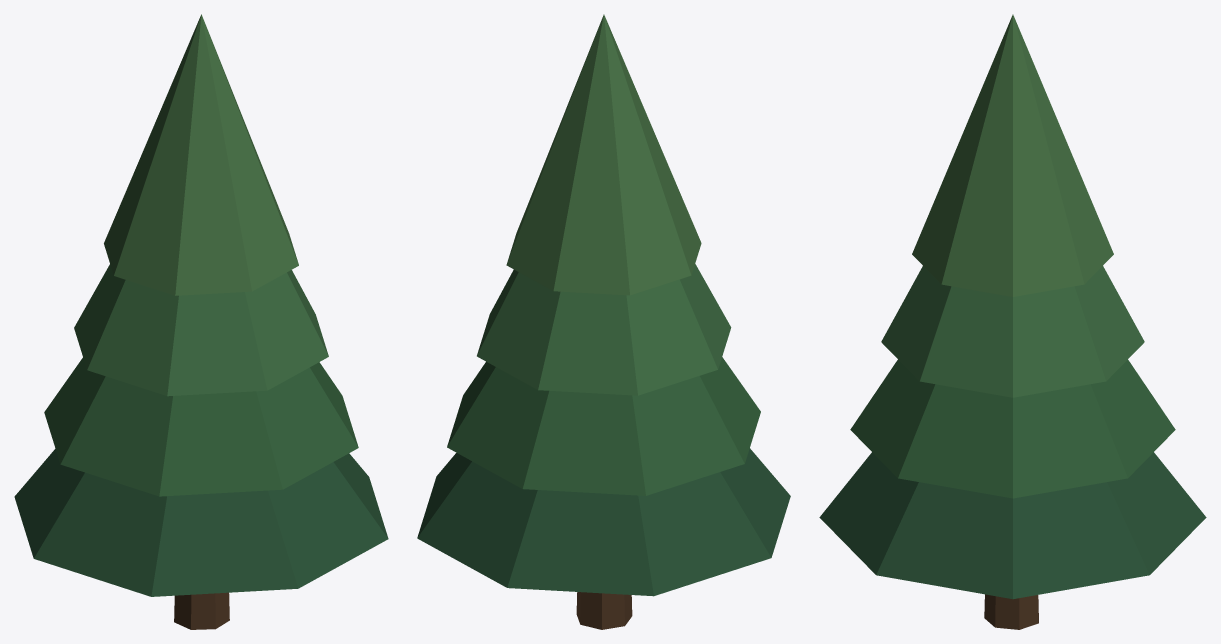
Rendered from forest_pine.glb.
3 views of the same model, side by side, from view 1: azimuth 30°, elevation 25°; view 2: azimuth 150°, elevation 25°; view 3: azimuth 270°, elevation 25° (orthographic).
Parts seen in each view (by area): view 1: forest_pine_LOD0; view 2: forest_pine_LOD0; view 3: forest_pine_LOD0.
Part boxes in pixels (x1,y1,x2,y2): forest_pine_LOD0: [14, 14, 388, 629]; forest_pine_LOD0: [417, 14, 790, 629]; forest_pine_LOD0: [819, 14, 1206, 629].
Size of what is drawn, in the model's own units: 5.4 by 9.3 by 5.4.
